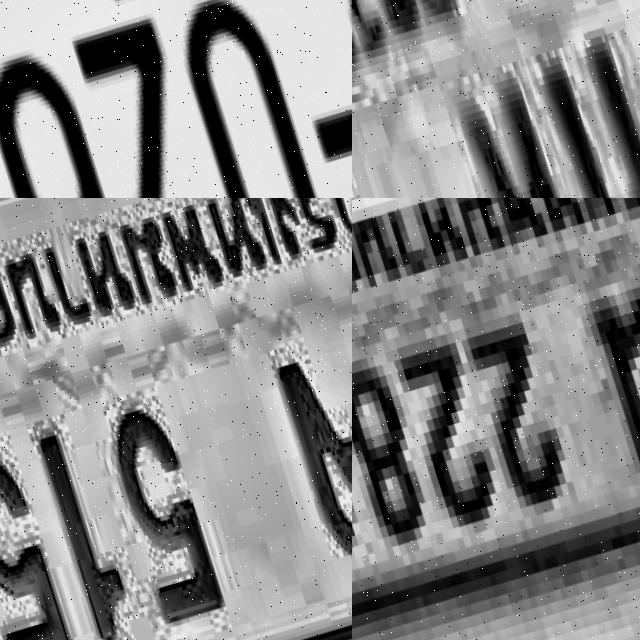license-plate: (0, 198, 352, 640), (352, 198, 640, 640), (0, 0, 352, 198), (352, 0, 640, 198)
